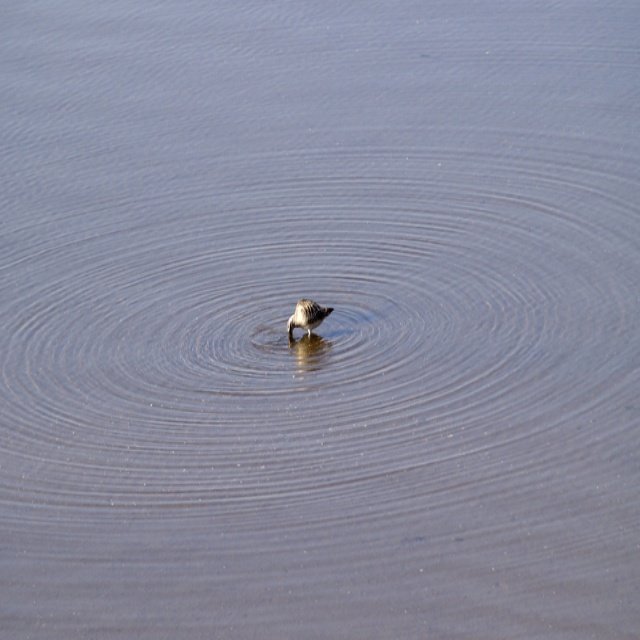Duck: (286, 283, 339, 346)
